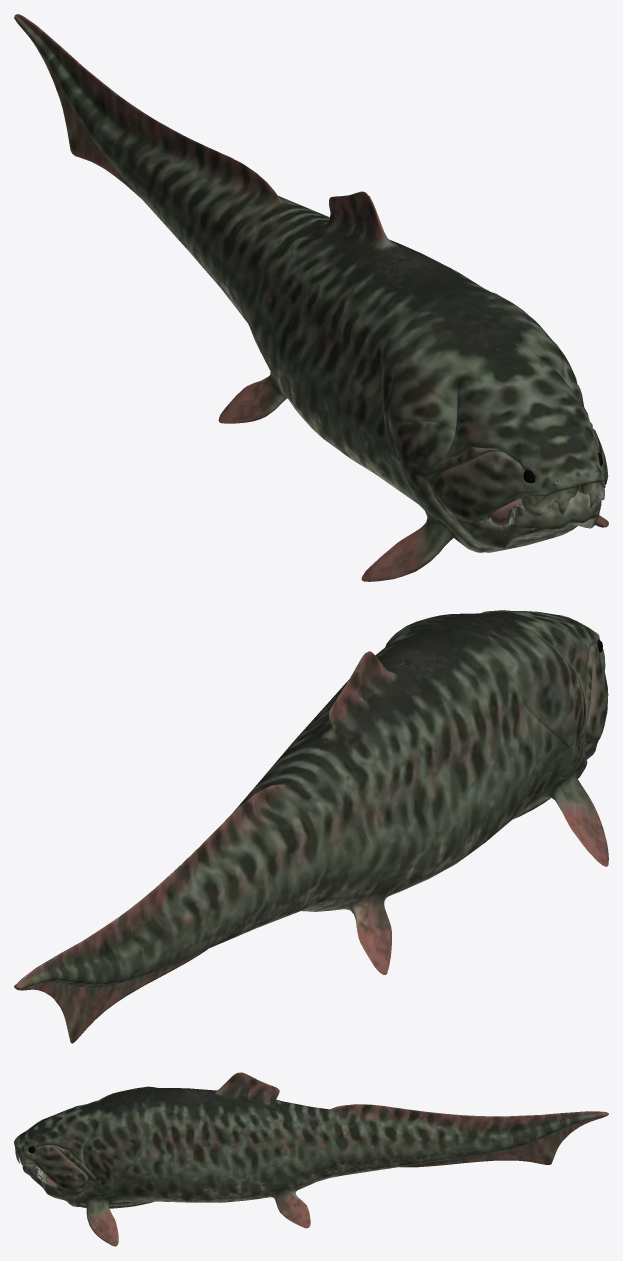
File: dunkleosteus.glb
3 renders of one model, top to bottom at view 1: azimuth 30°, elevation 25°; view 2: azimuth 150°, elevation 25°; view 3: azimuth 270°, elevation 25°, orthographic. The views are drawn at different scales.
Size of the model in its own units: 0.7516 by 0.7934 by 3.
4 materials, 3 textured.
